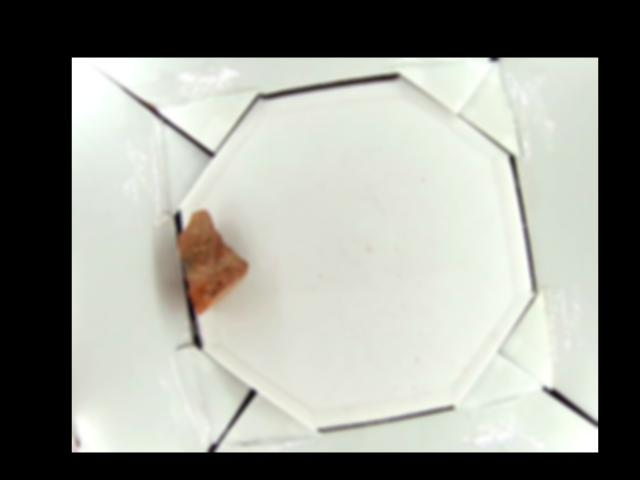Brisk: (176, 210, 246, 315)
